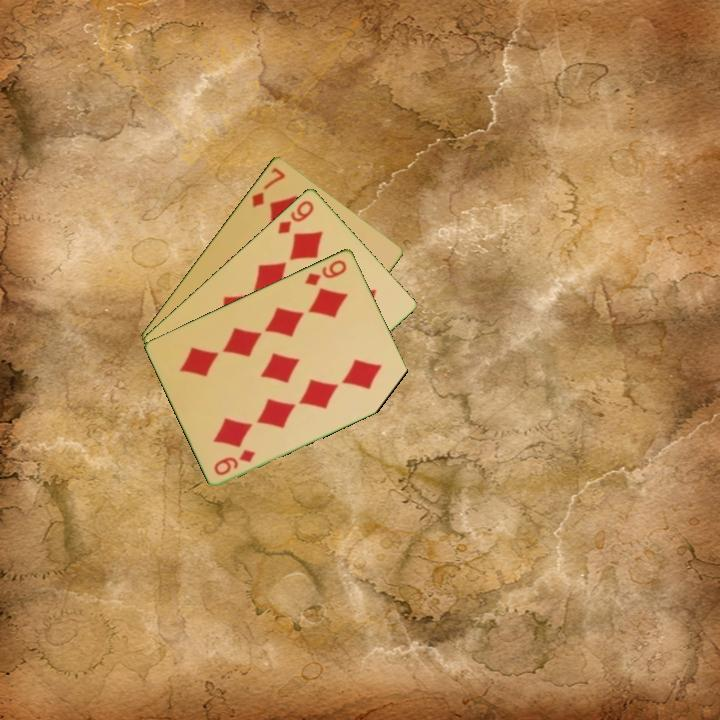7d: (248, 163, 288, 210)
9d: (274, 197, 317, 236), (301, 256, 350, 288), (210, 446, 258, 478)
